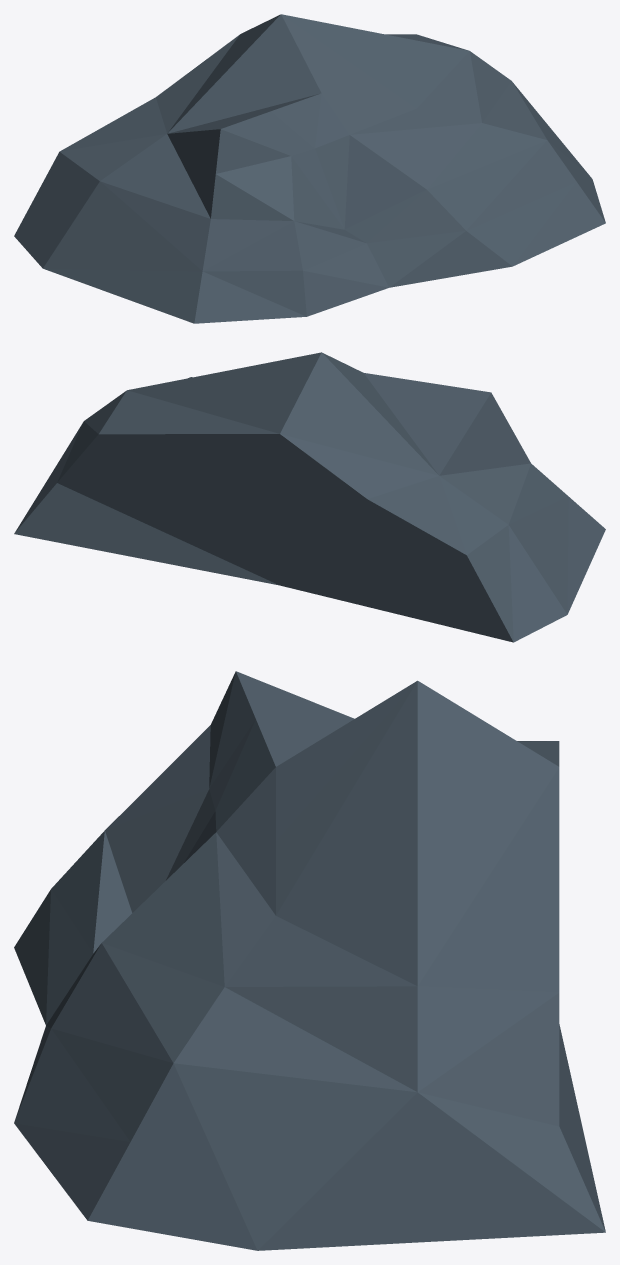
The model's file is Rock4.fbx.
3 renders of one model, top to bottom at view 1: azimuth 30°, elevation 25°; view 2: azimuth 150°, elevation 25°; view 3: azimuth 270°, elevation 25°, orthographic. The views are drawn at different scales.
Parts seen in each view (by area): view 1: WowAnotherDLedRock; view 2: WowAnotherDLedRock; view 3: WowAnotherDLedRock.
Part boxes in pixels (<box>): WowAnotherDLedRock: <box>14,14,605,323</box>; WowAnotherDLedRock: <box>14,352,605,642</box>; WowAnotherDLedRock: <box>14,671,605,1250</box>.
Size of the model in its own units: 3.59 by 1.34 by 2.09.
